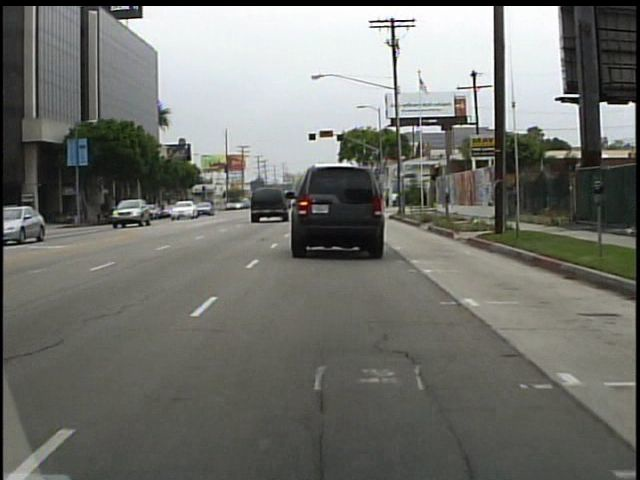person: (391, 189, 400, 208)
